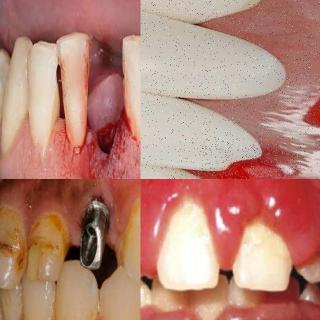Gum Swelling: (140, 179, 320, 276), (4, 116, 71, 179), (210, 141, 320, 179)
plaque: (155, 197, 225, 288), (235, 218, 294, 286), (116, 209, 140, 273), (100, 302, 140, 320), (296, 254, 320, 283), (23, 300, 51, 320), (56, 307, 94, 320)
